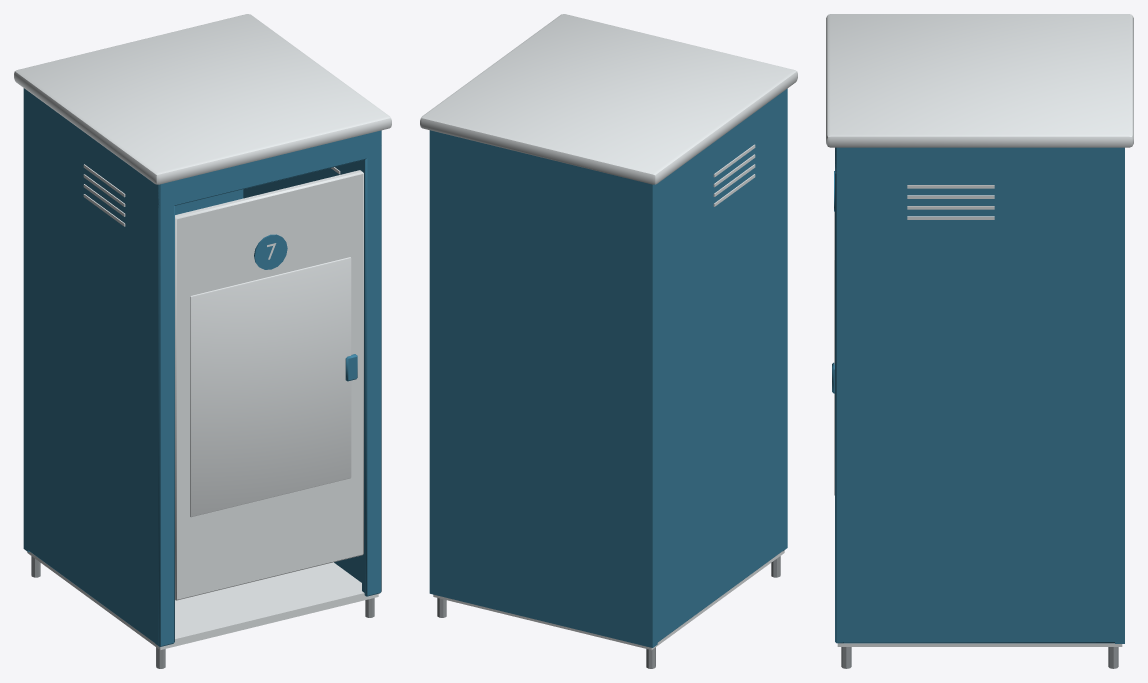
File: pool_cabin.glb
3 renders of one model, left to right at view 1: azimuth 30°, elevation 25°; view 2: azimuth 150°, elevation 25°; view 3: azimuth 270°, elevation 25°, orthographic. The views are drawn at different scales.
Parts seen in each view (by area): view 1: CabinBody, Door; view 2: CabinBody; view 3: CabinBody.
Part boxes in pixels (x1,y1,x2,y2): CabinBody: (14, 14, 391, 668); Door: (175, 170, 363, 600); CabinBody: (420, 14, 797, 668); CabinBody: (826, 14, 1133, 668).
Bounding box in the file's own units: 1.01 × 2.05 × 1.06.
